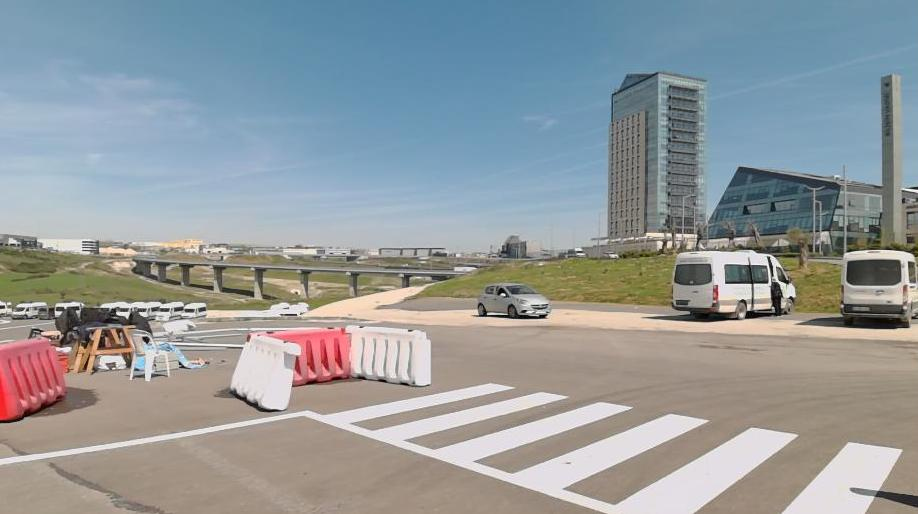nesne: (303, 377, 918, 514), (310, 380, 903, 514), (1, 409, 314, 467), (670, 250, 795, 318), (839, 246, 917, 329), (257, 326, 354, 388), (2, 336, 70, 423), (227, 335, 299, 412), (351, 325, 434, 388), (475, 282, 552, 318), (9, 300, 49, 320), (154, 300, 185, 321), (54, 301, 88, 320), (115, 300, 146, 318), (132, 300, 163, 318), (769, 277, 783, 313), (99, 300, 128, 315), (181, 301, 206, 318), (37, 306, 54, 320)
